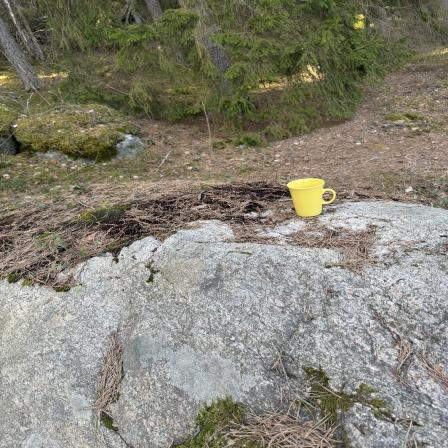yellow_cup: (286, 177, 335, 222)
